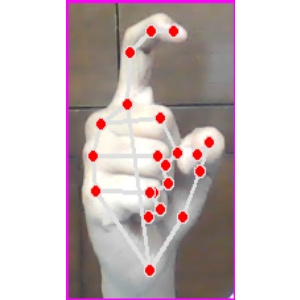X: (66, 1, 234, 300)
